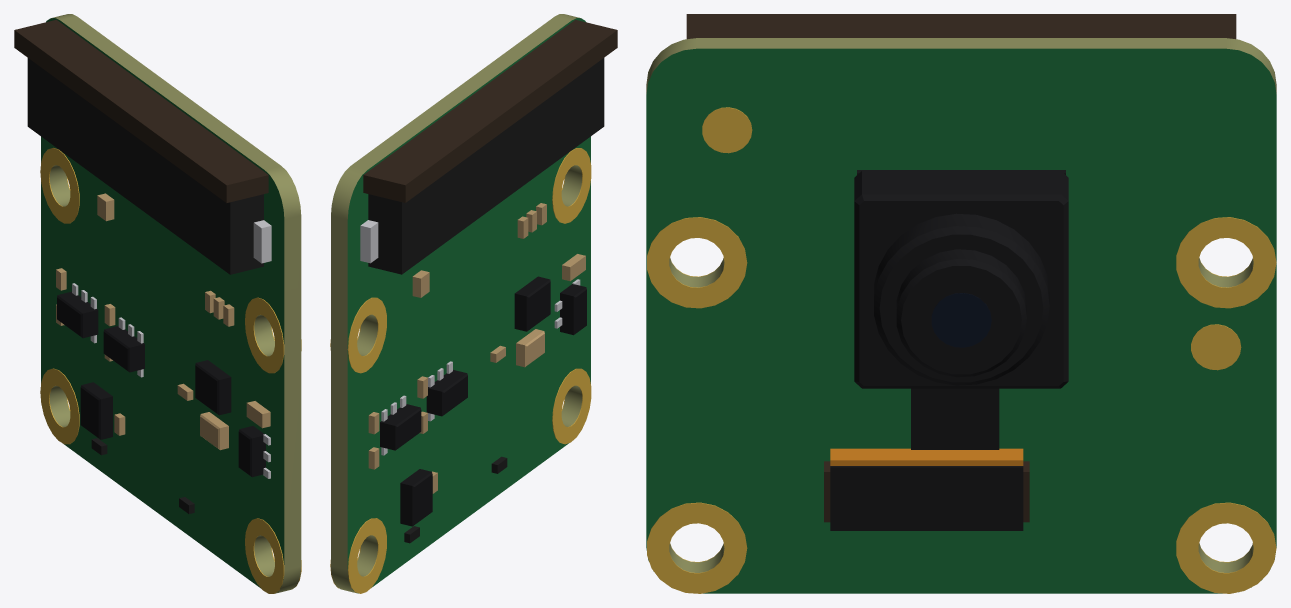
The model's file is raspberry_pi_camera_v2.glb.
3 views of the same model, side by side, from view 1: azimuth 30°, elevation 25°; view 2: azimuth 150°, elevation 25°; view 3: azimuth 270°, elevation 25° (orthographic). The views are drawn at different scales.
Parts seen in each view (by area): view 1: board, ribbon_connector, back_parts, pads; view 2: board, ribbon_connector, back_parts, pads; view 3: board, camera_module, pads, flex, ribbon_connector.
Boxes of the visible parts, box(x1,y1,x2,y2) form: board: box(41, 14, 301, 593); ribbon_connector: box(14, 19, 271, 274); back_parts: box(56, 193, 270, 513); pads: box(40, 148, 301, 593); board: box(331, 14, 590, 593); ribbon_connector: box(360, 19, 617, 274); back_parts: box(368, 203, 586, 543); pads: box(330, 148, 591, 593); board: box(646, 38, 1276, 593); camera_module: box(854, 170, 1068, 388); pads: box(647, 107, 1276, 593); flex: box(824, 388, 1029, 530); ribbon_connector: box(686, 14, 1236, 39).
Bounding box in the file's own units: 0.00872 × 0.0239 × 0.025.
